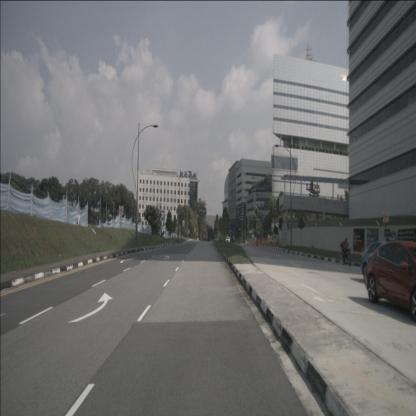vehicle-car: (365, 240, 415, 323), (360, 240, 410, 283), (226, 236, 230, 244)
vehicle-motorcycle: (340, 236, 352, 266)
